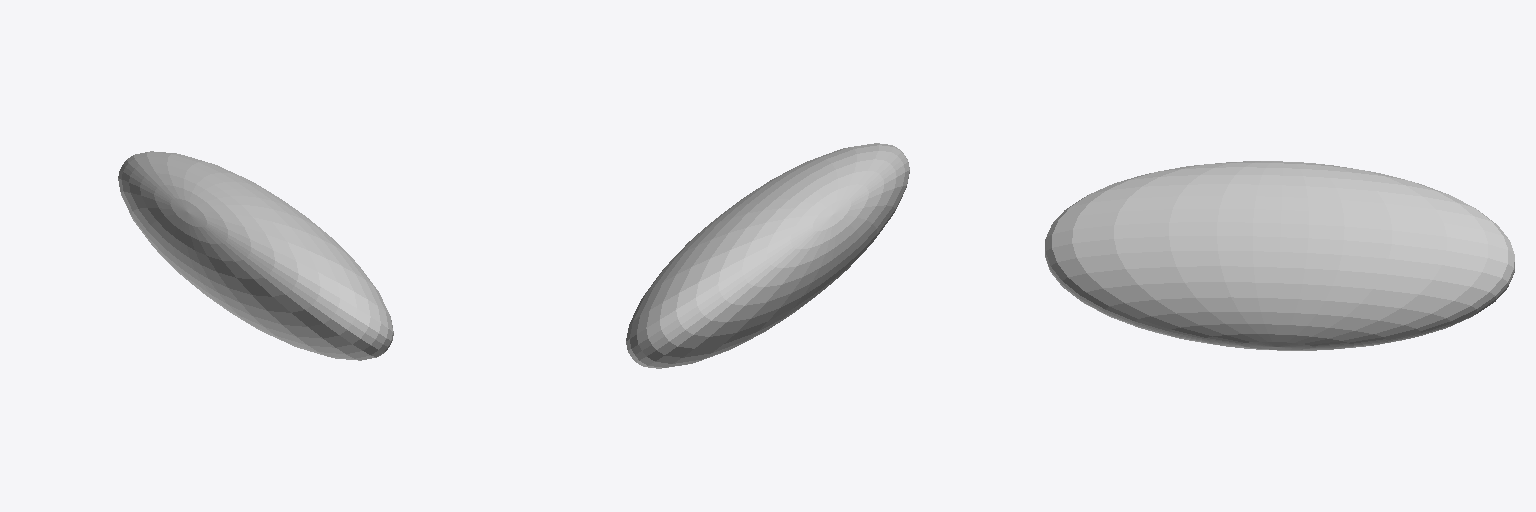
The model's file is spaceEnvironmentTest2.obj.
3 renders of one model, left to right at view 1: azimuth 30°, elevation 25°; view 2: azimuth 150°, elevation 25°; view 3: azimuth 270°, elevation 25°, orthographic.
Parts seen in each view (by area): view 1: SurfSphere; view 2: SurfSphere; view 3: SurfSphere.
Boxes of the visible parts, box(x1,y1,x2,y2) form: SurfSphere: box(118, 151, 393, 360); SurfSphere: box(626, 143, 909, 368); SurfSphere: box(1045, 161, 1514, 350).
Size of the model in its own units: 140 by 130 by 382.